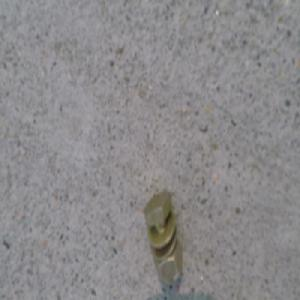BoltNutSet: (140, 186, 180, 280)
